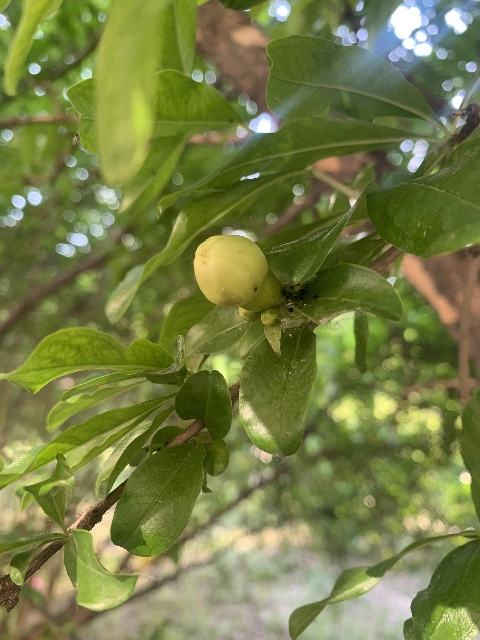bud: (193, 235, 286, 309)
